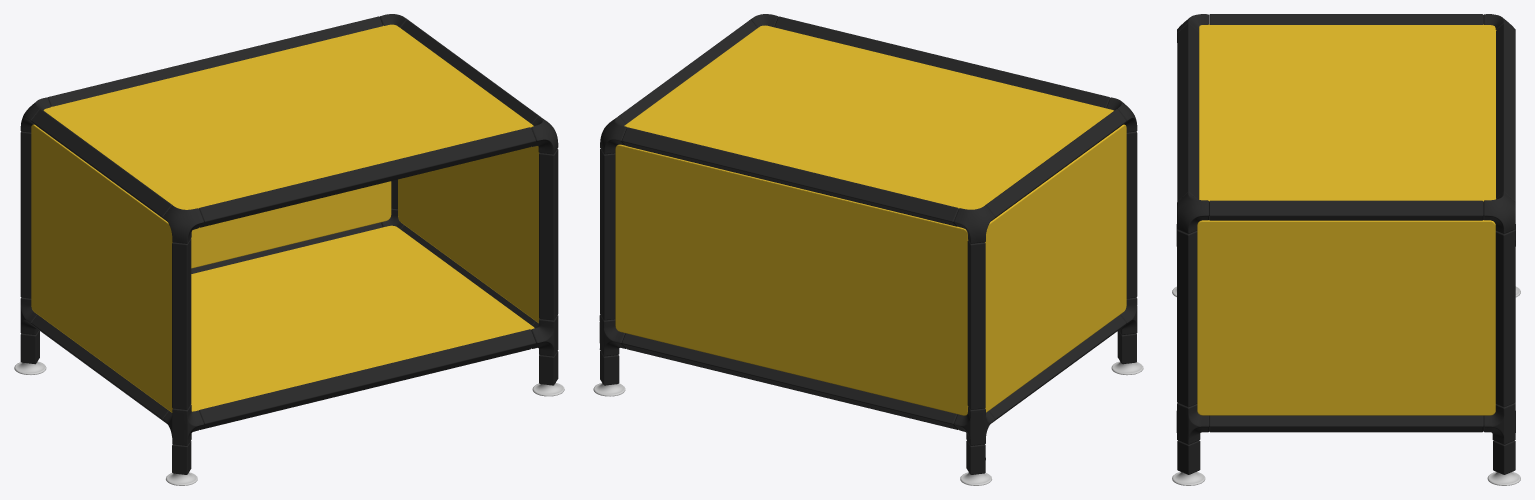
The picture shows the model from 3 angles, left to right: view 1: azimuth 30°, elevation 25°; view 2: azimuth 150°, elevation 25°; view 3: azimuth 270°, elevation 25°; orthographic projection. The views are drawn at different scales.
Visible parts, largest first — view 1: 479x329x229; view 2: 479x329x229; view 3: 479x329x229.
Boxes of the visible parts, <box> form: 479x329x229: <box>14,14,564,485</box>; 479x329x229: <box>593,14,1143,485</box>; 479x329x229: <box>1172,14,1520,485</box>.
Size of the model in its own units: 0.5689 by 0.3684 by 0.4183.
